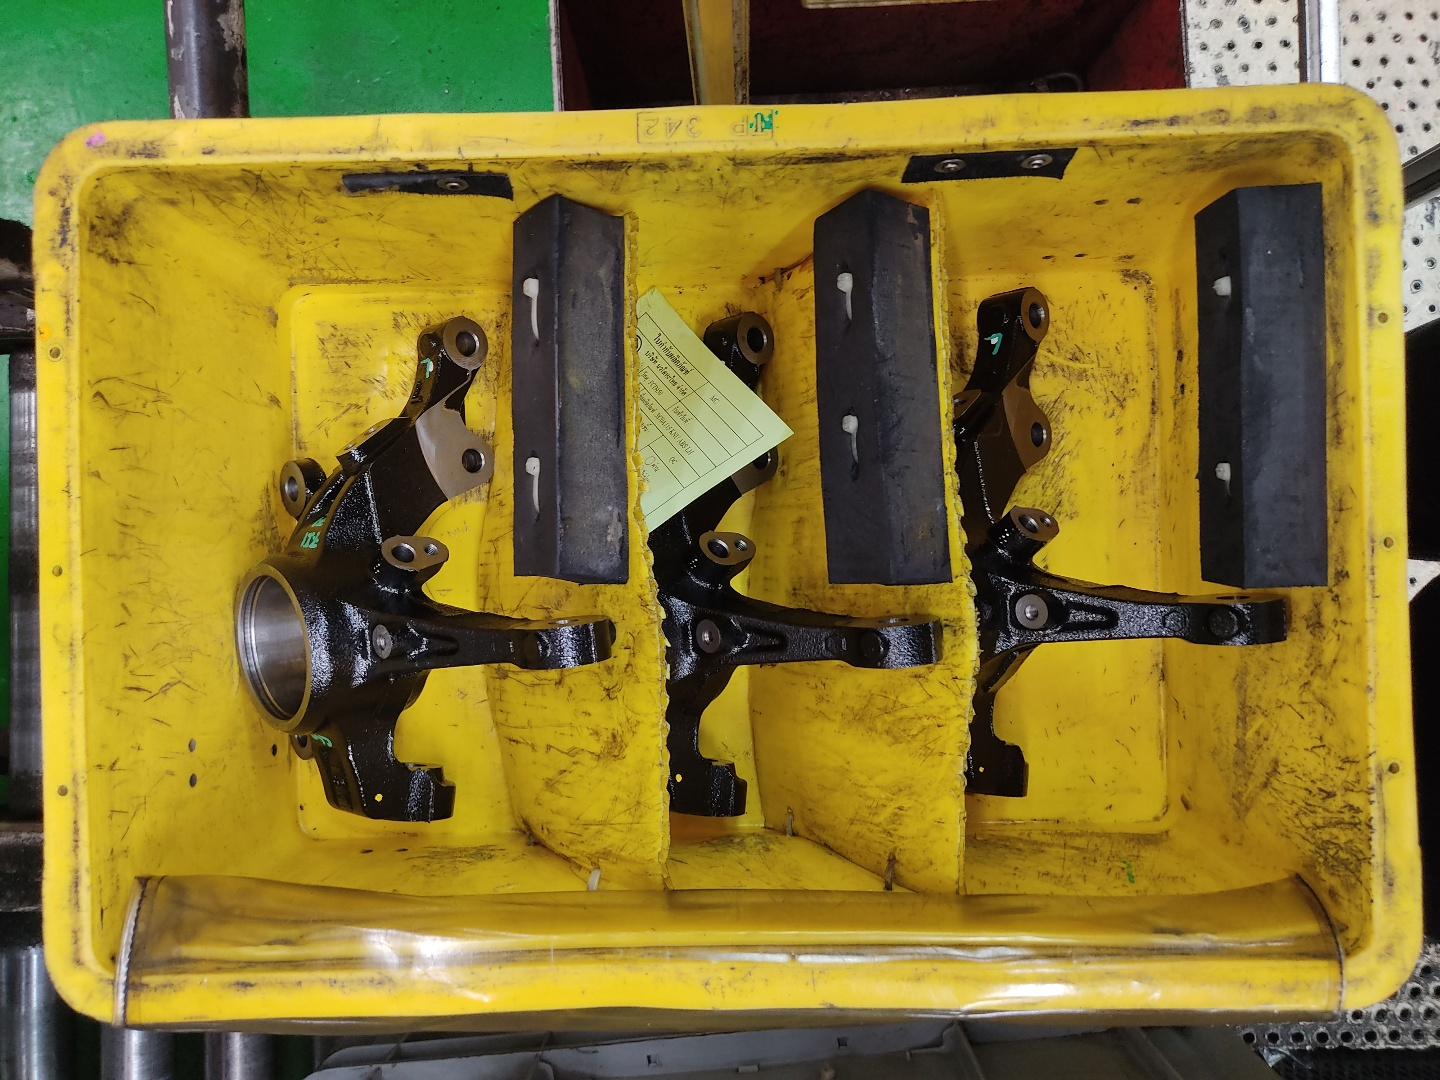abs-lh: (229, 307, 628, 832), (947, 282, 1296, 803), (624, 302, 950, 822)
